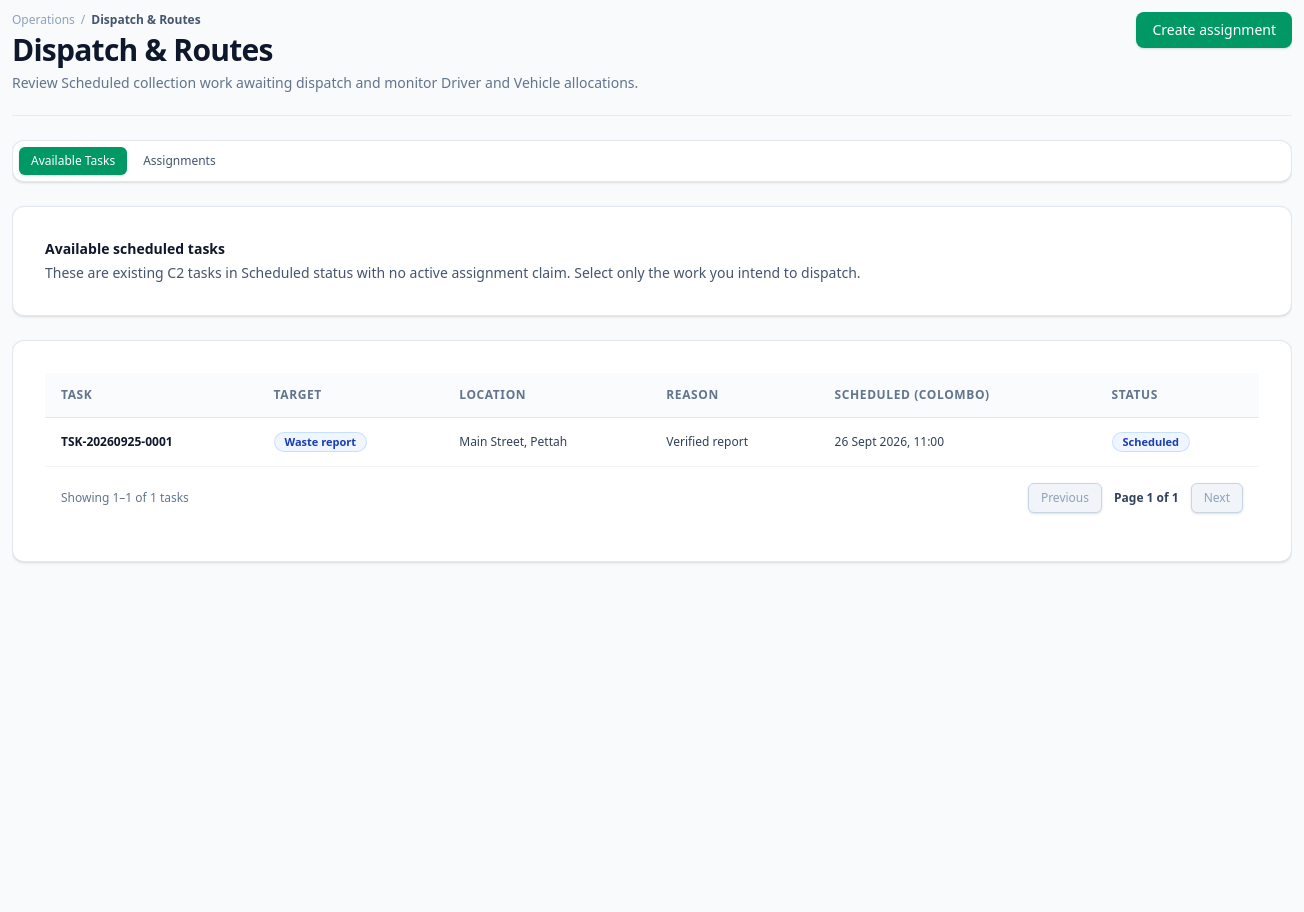
DispatchRoutesPage › opens assignment details from the assignments list and shows officer actions
Click the button "Assignments": (179, 161) [131,147,228,175]
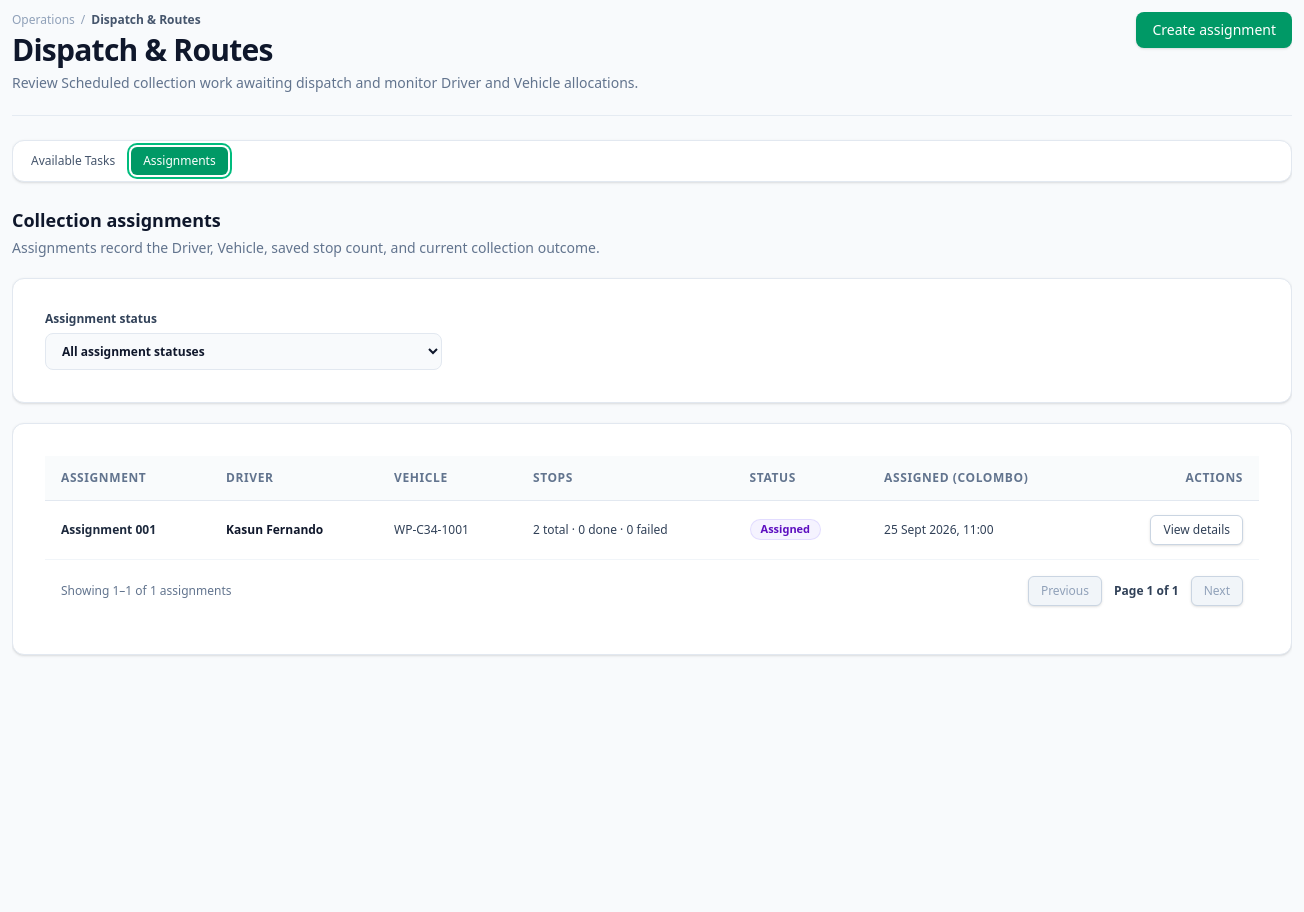
Click the button "View details": (1197, 530) [1150,515,1243,545]
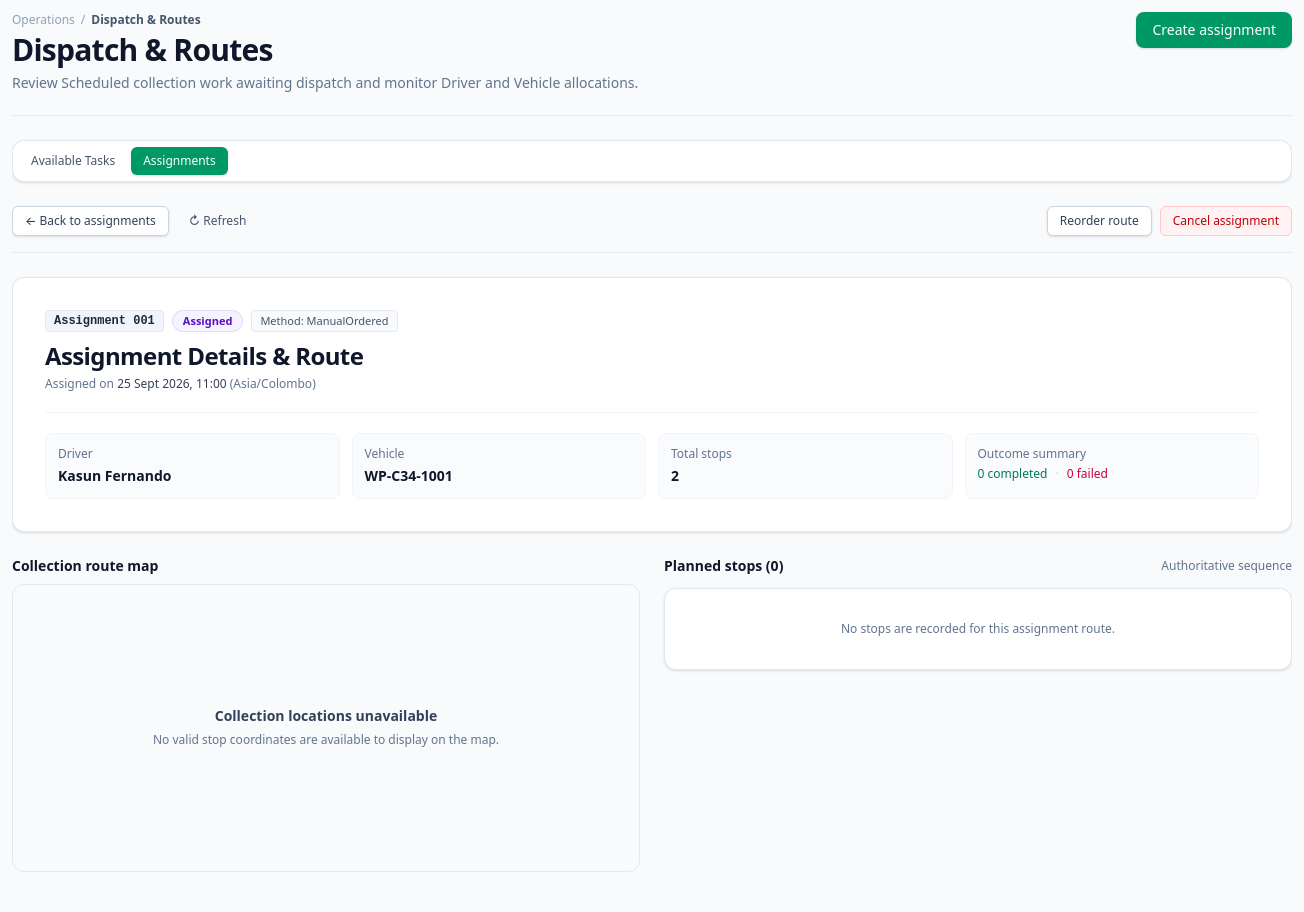
expect the element with test id "assignment-detail-panel" is shown: met
expect the button "Reorder route" is shown: met, box [1047,206,1152,236]
expect the button "Cancel assignment" is shown: met, box [1160,206,1292,236]
